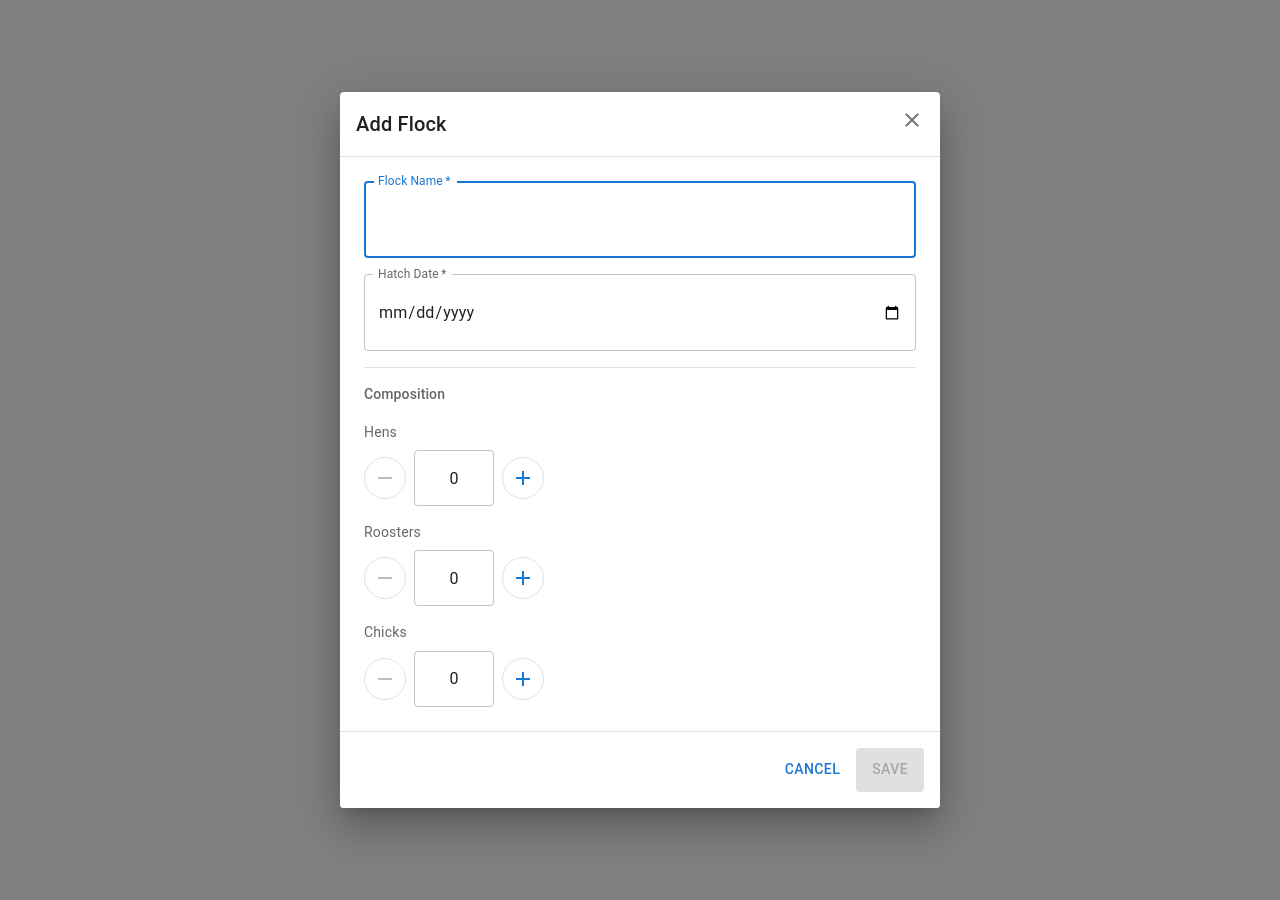
Test: CreateFlockModal › Increment/Decrement Buttons › should increment hens count when increment button is clicked
The image size is (1280, 900).
Check: the number field named "Hens" holds "0", box [414,450,494,506]
What coordinates should you click on to do the following:
click the button named "increase"
I would click on:
 (523, 478)
Its box is [502,458,544,500].
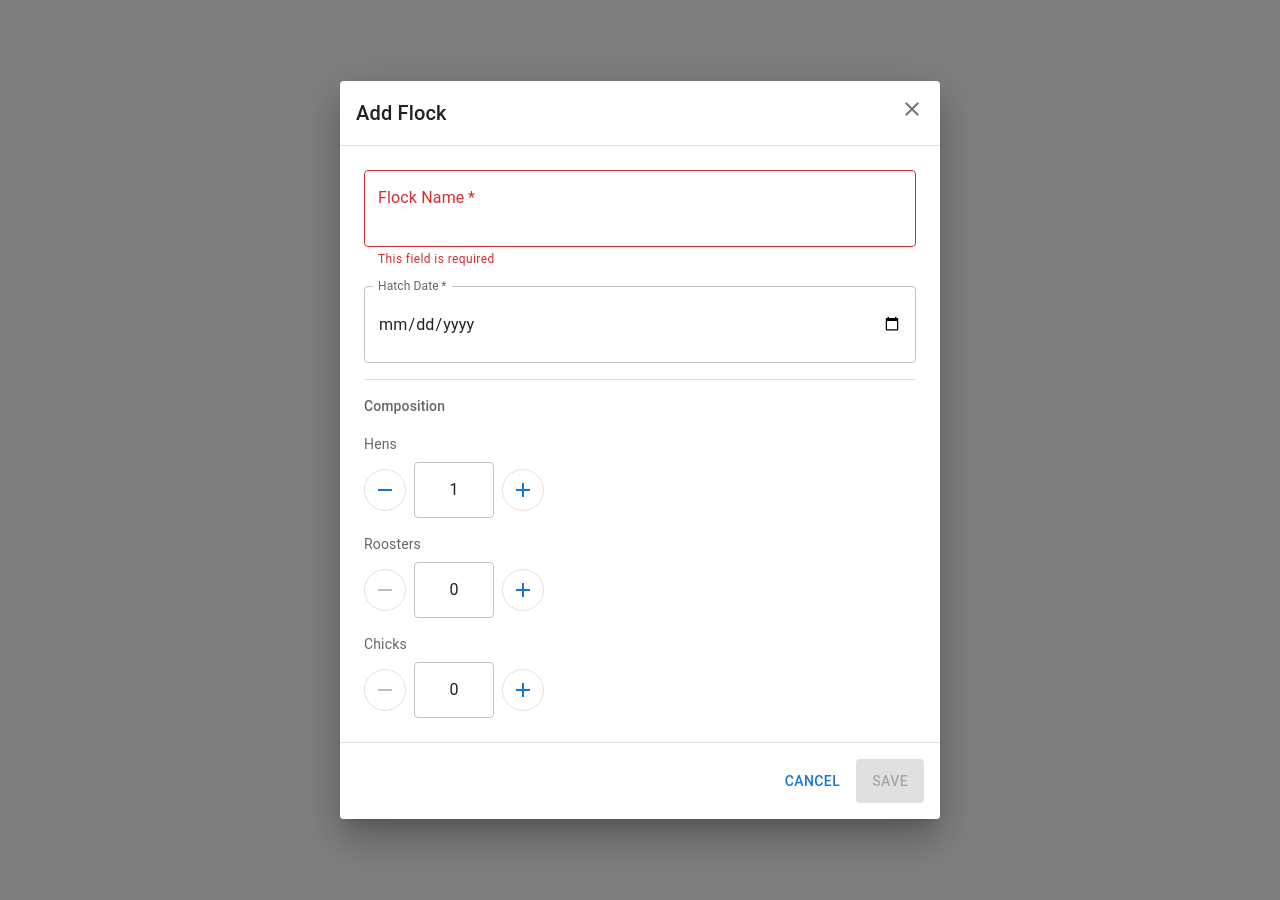
Check: the number field named "Hens" holds "1", box [414,462,494,518]
